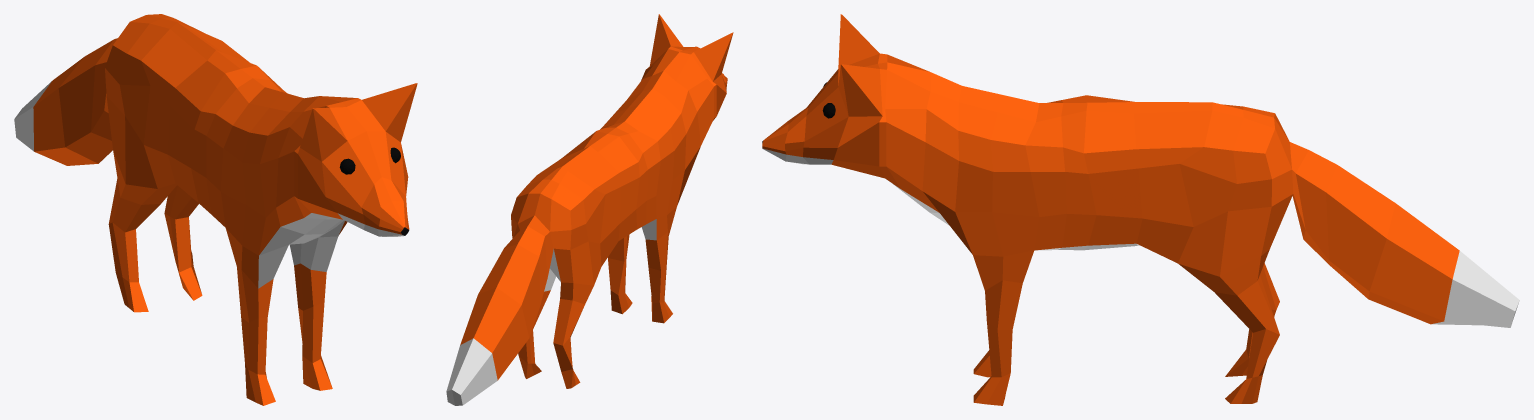
The model's file is low_poly_fox.glb.
The picture shows the model from 3 angles, left to right: view 1: azimuth 30°, elevation 25°; view 2: azimuth 150°, elevation 25°; view 3: azimuth 270°, elevation 25°; orthographic projection. The views are drawn at different scales.
Visible parts, largest first — view 1: Cube002; view 2: Cube002; view 3: Cube002.
Part boxes in pixels (x1,y1,x2,y2): Cube002: (14, 14, 417, 405); Cube002: (446, 14, 733, 405); Cube002: (762, 14, 1519, 405).
Size of the model in its own units: 0.6194 by 2 by 3.93.
